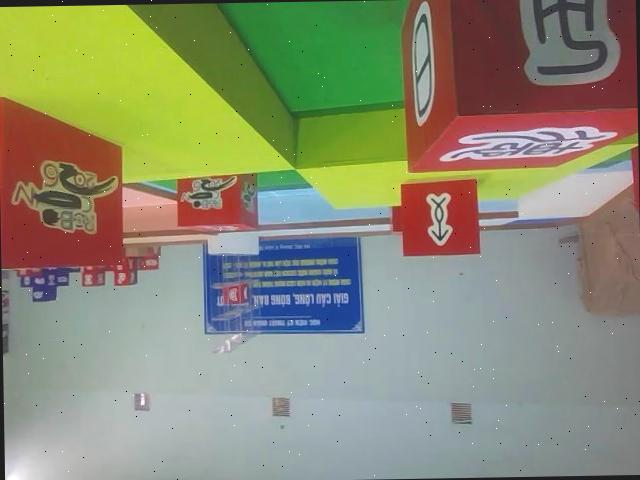R1: (0, 95, 126, 267), (175, 171, 259, 229)
R2 Fake: (398, 0, 639, 172)
R2 Real: (397, 177, 482, 259)
